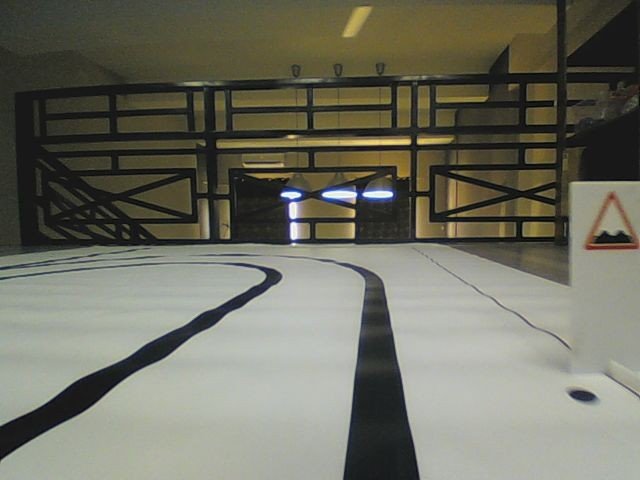Nerov: (583, 189, 640, 252)
